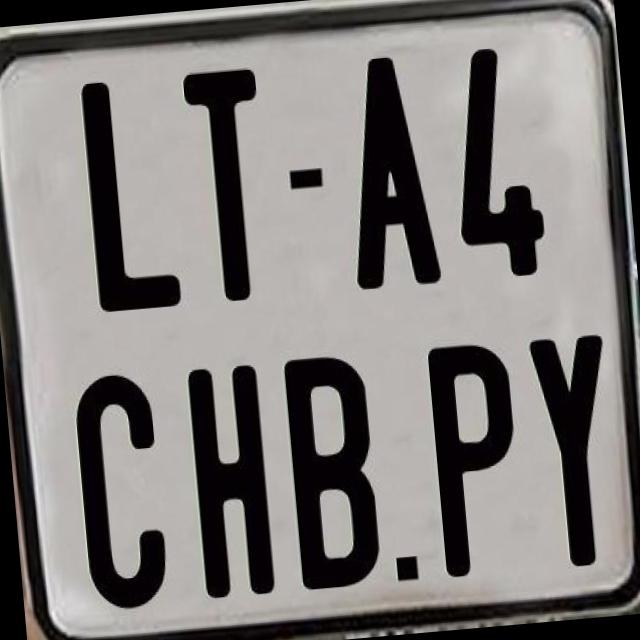4: (442, 39, 548, 276)
A: (334, 51, 442, 294)
B: (284, 352, 391, 592)
C: (72, 372, 170, 621)
H: (182, 359, 280, 599)
L: (75, 73, 178, 314)
P: (422, 336, 526, 572)
T: (180, 62, 276, 307)
Y: (528, 328, 628, 568)
